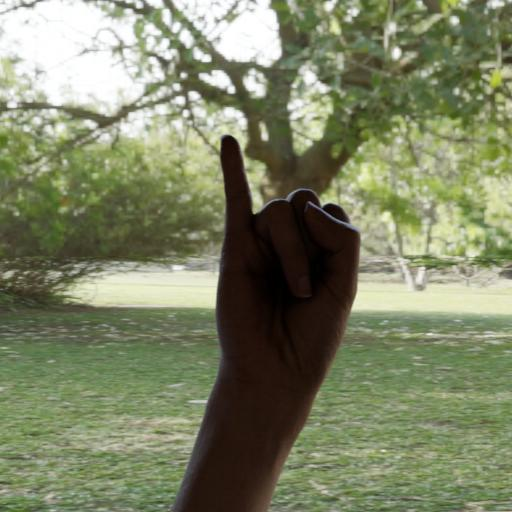I: (211, 137, 374, 375)
